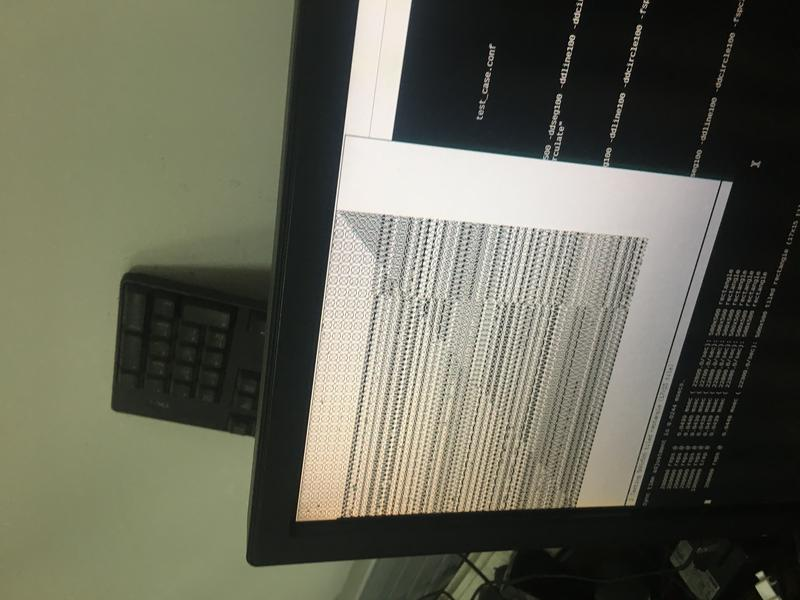xrandr_pass: (274, 119, 741, 516)
